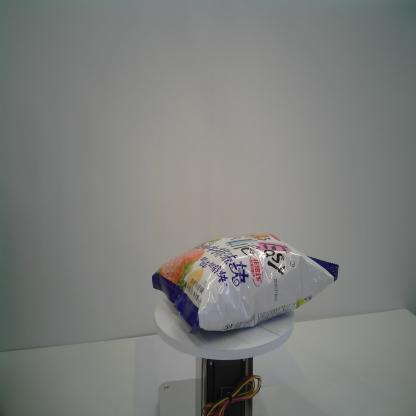Puffed Food: (151, 232, 340, 337)
